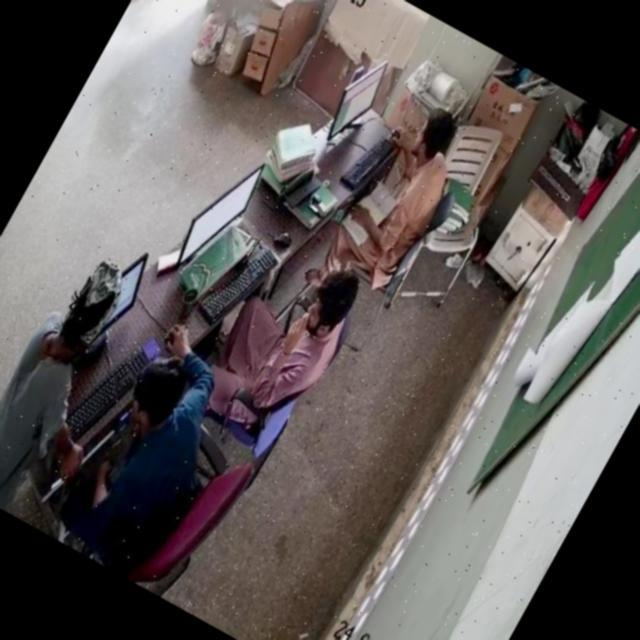person: (59, 326, 244, 556), (0, 244, 137, 508), (207, 234, 375, 433), (336, 98, 474, 279)
